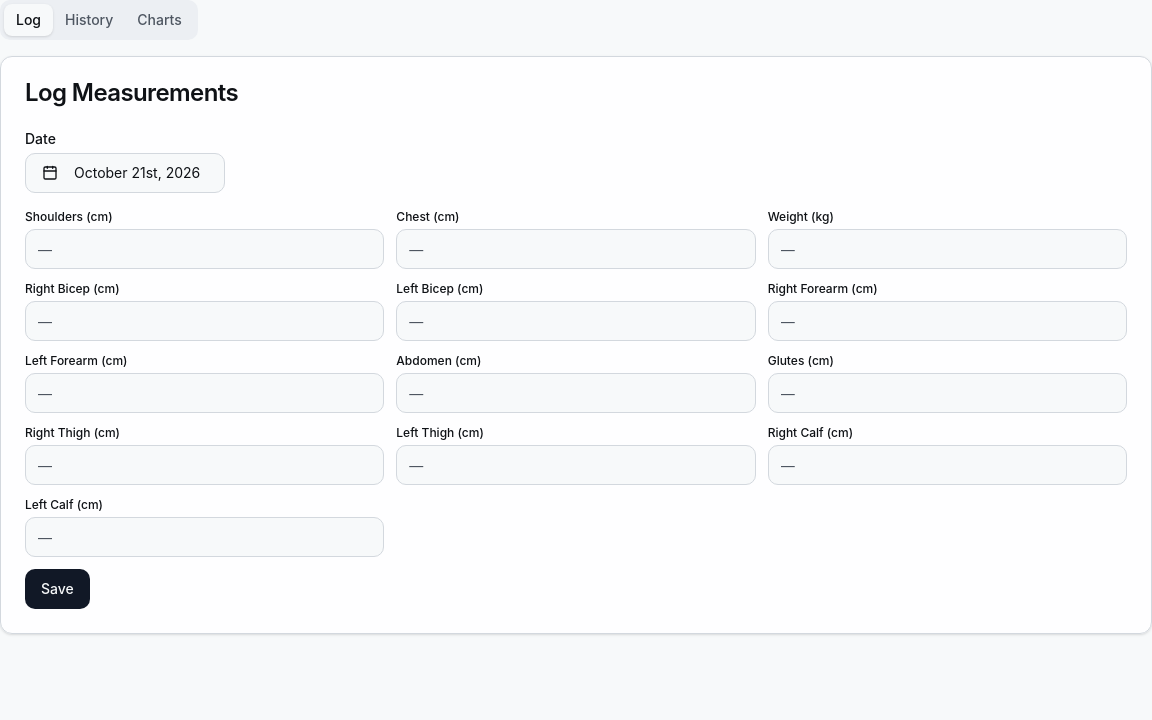
Scenario: MeasurementsPage › switches to History tab on click
The image size is (1152, 720).
Step 1. Click the tab "History" → (89, 20), box [53,4,125,36]
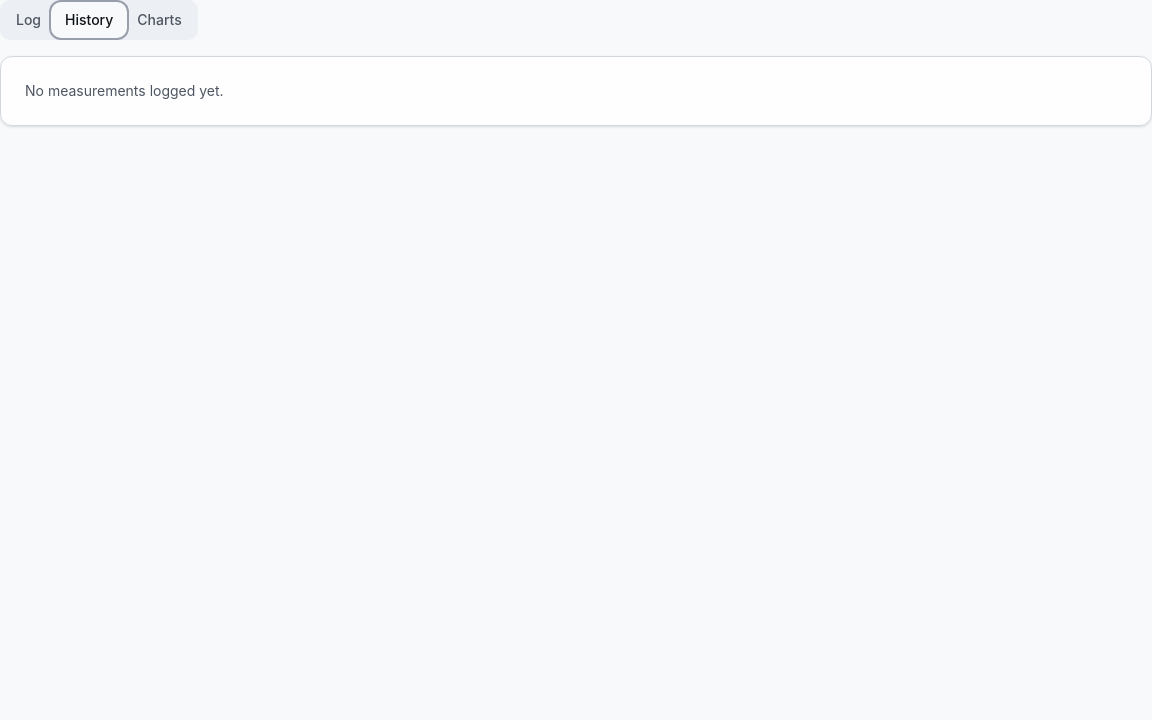
Expected: the text "No measurements logged yet." is shown, [25,82,224,99]
